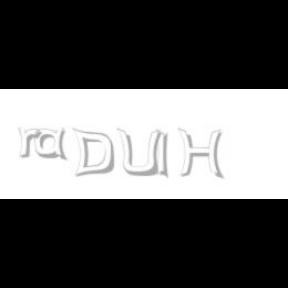D: (72, 128, 115, 178)
H: (177, 128, 223, 180)
I: (156, 128, 170, 180)
U: (116, 128, 161, 178)
a: (35, 128, 72, 160)
r: (18, 128, 44, 158)
